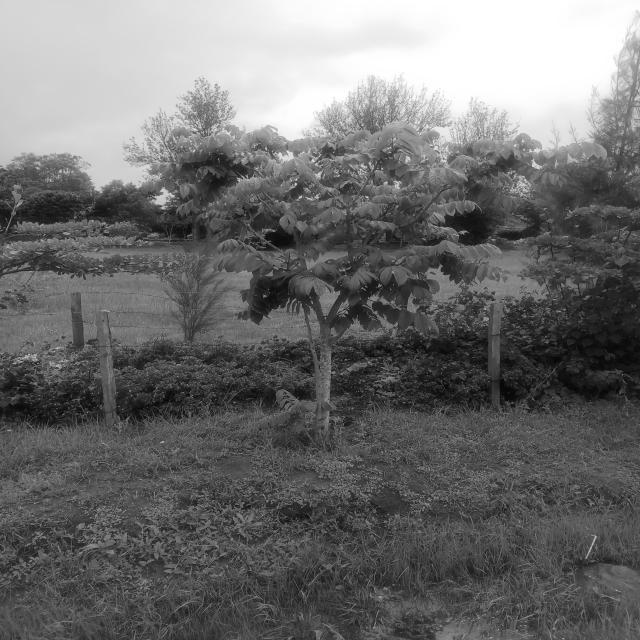Polyscias Kikuyensis: (170, 118, 609, 439)
